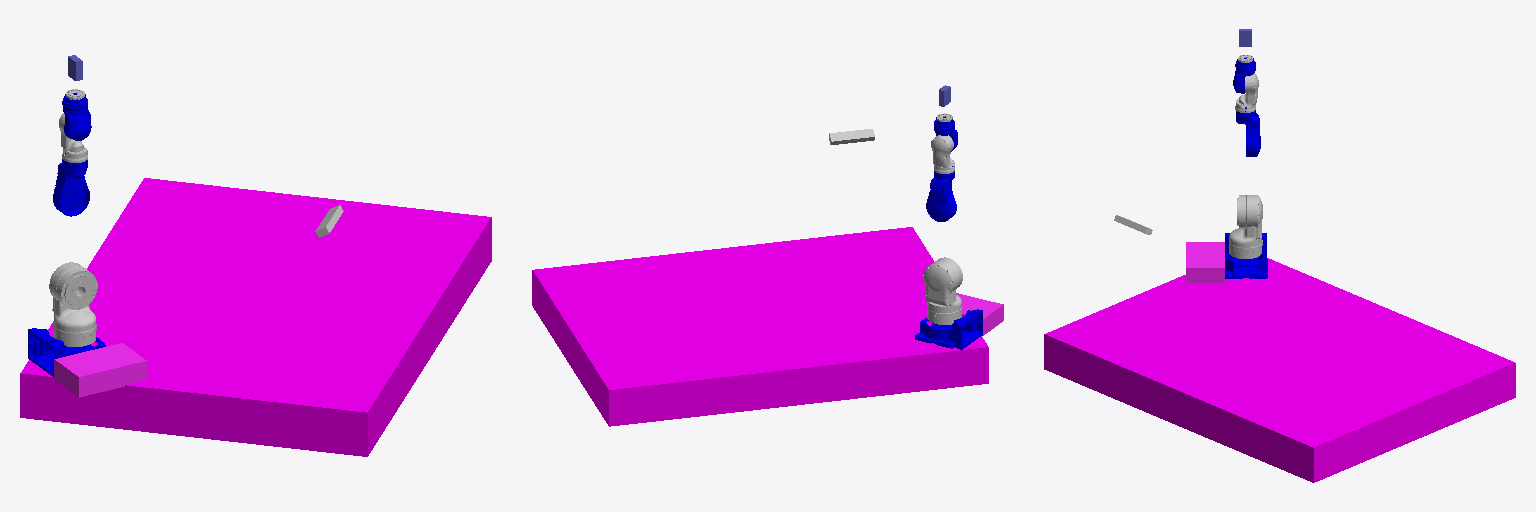
The robot description file, URDF, robot "freetail":
<?xml version="1.0" ?>
<!-- =================================================================================== -->
<!-- |    This document was autogenerated by xacro from urdf/freetail_vacuum_gripper_conf.xacro | -->
<!-- |    EDITING THIS FILE BY HAND IS NOT RECOMMENDED                                 | -->
<!-- =================================================================================== -->
<robot name="freetail" xmlns:xacro="http://ros.org/wiki/xacro">
  <!-- instantiating arm and gripper -->
  <link name="base_link">
    <visual>
      <geometry>
        <mesh filename="package://motoman_config/meshes/sia20d/visual/MOTOMAN_BASE.stl"/>
      </geometry>
      <material name="blue">
        <color rgba="0 0 1 1"/>
      </material>
    </visual>
    <collision>
      <geometry>
        <mesh filename="package://motoman_config/meshes/sia20d/collision/MOTOMAN_BASE.stl"/>
      </geometry>
      <material name="yellow">
        <color rgba="0 1 1 1"/>
      </material>
    </collision>
  </link>
  <link name="link_s">
    <visual>
      <origin rpy="0 0 3.1416" xyz="0 0 0"/>
      <geometry>
        <mesh filename="package://motoman_config/meshes/sia20d/visual/MOTOMAN_AXIS_S.stl"/>
      </geometry>
      <material name="silver">
        <color rgba="0.8 0.8 0.8 1"/>
      </material>
    </visual>
    <collision>
      <origin rpy="0 0 3.1416" xyz="0 0 0"/>
      <geometry>
        <mesh filename="package://motoman_config/meshes/sia20d/collision/MOTOMAN_AXIS_S.stl"/>
      </geometry>
      <material name="yellow"/>
    </collision>
  </link>
  <link name="link_l">
    <visual>
      <origin rpy="1.57 3.1416 3.1416" xyz="0 0 0"/>
      <geometry>
        <mesh filename="package://motoman_config/meshes/sia20d/visual/MOTOMAN_AXIS_L.stl"/>
      </geometry>
      <material name="blue"/>
    </visual>
    <collision>
      <origin rpy="1.57 3.1416 3.1416" xyz="0 0 0"/>
      <geometry>
        <mesh filename="package://motoman_config/meshes/sia20d/collision/MOTOMAN_AXIS_L.stl"/>
      </geometry>
      <material name="yellow"/>
    </collision>
  </link>
  <link name="link_e">
    <visual>
      <origin rpy="0 0 0" xyz="0 0 0"/>
      <geometry>
        <mesh filename="package://motoman_config/meshes/sia20d/visual/MOTOMAN_AXIS_E.stl"/>
      </geometry>
      <material name="silver"/>
    </visual>
    <collision>
      <origin rpy="0 0 0" xyz="0 0 0"/>
      <geometry>
        <mesh filename="package://motoman_config/meshes/sia20d/collision/MOTOMAN_AXIS_E.stl"/>
      </geometry>
      <material name="yellow"/>
    </collision>
  </link>
  <link name="link_u">
    <visual>
      <origin rpy="1.57 -3.1415 3.1416" xyz="0 0 0"/>
      <geometry>
        <mesh filename="package://motoman_config/meshes/sia20d/visual/MOTOMAN_AXIS_U.stl"/>
      </geometry>
      <material name="blue"/>
    </visual>
    <collision>
      <origin rpy="1.57 -3.1415 3.1416" xyz="0 0 0"/>
      <geometry>
        <mesh filename="package://motoman_config/meshes/sia20d/collision/MOTOMAN_AXIS_U.stl"/>
      </geometry>
      <material name="yellow"/>
    </collision>
  </link>
  <link name="link_r">
    <visual>
      <origin rpy="0 0 0" xyz="0 0 0"/>
      <geometry>
        <mesh filename="package://motoman_config/meshes/sia20d/visual/MOTOMAN_AXIS_R.stl"/>
      </geometry>
      <material name="silver"/>
    </visual>
    <collision>
      <origin rpy="0 0 0" xyz="0 0 0"/>
      <geometry>
        <mesh filename="package://motoman_config/meshes/sia20d/collision/MOTOMAN_AXIS_R.stl"/>
      </geometry>
      <material name="yellow"/>
    </collision>
  </link>
  <link name="link_b">
    <visual>
      <origin rpy="-1.57 0 0" xyz="0 0 0"/>
      <geometry>
        <mesh filename="package://motoman_config/meshes/sia20d/visual/MOTOMAN_AXIS_B.stl"/>
      </geometry>
      <material name="blue"/>
    </visual>
    <collision>
      <origin rpy="-1.57 0 0" xyz="0 0 0"/>
      <geometry>
        <mesh filename="package://motoman_config/meshes/sia20d/collision/MOTOMAN_AXIS_B.stl"/>
      </geometry>
      <material name="yellow"/>
    </collision>
  </link>
  <link name="link_t">
    <visual>
      <geometry>
        <mesh filename="package://motoman_config/meshes/sia20d/visual/MOTOMAN_AXIS_T.stl"/>
      </geometry>
      <material name="silver"/>
    </visual>
    <collision>
      <geometry>
        <mesh filename="package://motoman_config/meshes/sia20d/collision/MOTOMAN_AXIS_T.stl"/>
      </geometry>
      <material name="yellow"/>
    </collision>
  </link>
  <joint name="joint_s" type="revolute">
    <parent link="base_link"/>
    <child link="link_s"/>
    <origin rpy="0 0 0" xyz="0 0 0.41"/>
    <axis xyz="0 0 1"/>
    <limit effort="100" lower="-3.1416" upper="3.1416" velocity="2.26"/>
  </joint>
  <joint name="joint_l" type="revolute">
    <parent link="link_s"/>
    <child link="link_l"/>
    <origin rpy="0 0 0" xyz="0 0 0"/>
    <axis xyz="0 1 0"/>
    <limit effort="100" lower="-1.91" upper="1.91" velocity="2.26"/>
  </joint>
  <joint name="joint_e" type="revolute">
    <parent link="link_l"/>
    <child link="link_e"/>
    <origin rpy="0 0 0" xyz="0 0 0.49"/>
    <axis xyz="0 0 1"/>
    <limit effort="100" lower="-2.96" upper="2.96" velocity="2.96"/>
  </joint>
  <joint name="joint_u" type="revolute">
    <parent link="link_e"/>
    <child link="link_u"/>
    <origin rpy="0 0 0" xyz="0 0 0"/>
    <axis xyz="0 -1 0"/>
    <limit effort="100" lower="-2.26" upper="2.26" velocity="2.96"/>
  </joint>
  <joint name="joint_r" type="revolute">
    <parent link="link_u"/>
    <child link="link_r"/>
    <origin rpy="0 0 0" xyz="0 0 0.420"/>
    <axis xyz="0 0 -1"/>
    <limit effort="100" lower="-3.1416" upper="3.1416" velocity="3.48"/>
  </joint>
  <joint name="joint_b" type="revolute">
    <parent link="link_r"/>
    <child link="link_b"/>
    <origin rpy="0 0 0" xyz="0 0 0"/>
    <axis xyz="0 -1 0"/>
    <limit effort="100" lower="-1.91" upper="1.91" velocity="3.48"/>
  </joint>
  <joint name="joint_t" type="revolute">
    <parent link="link_b"/>
    <child link="link_t"/>
    <origin rpy="0 0 0" xyz="0 0 0.18"/>
    <axis xyz="0 0 -1"/>
    <limit effort="100" lower="-3.1416" upper="3.1416" velocity="6.97"/>
  </joint>
  <link name="palm">
    <visual>
      <origin rpy="0 0 0" xyz="0 0.019 -0.0543"/>
      <geometry>
        <box size="0.040 0.080 0.1086"/>
      </geometry>
      <material name="another_blue1">
        <color rgba="0.40 0.40 0.80 1"/>
      </material>
    </visual>
    <collision>
      <origin rpy="0 0 0" xyz="0 0.019 -0.0543"/>
      <geometry>
        <box size="0.040 0.080 0.1086"/>
      </geometry>
      <material name="another_blue2">
        <color rgba="0.38 0.54 0.83 1"/>
      </material>
    </collision>
  </link>
  <!-- adding coupling link -->
  <link name="coupler">
    <visual>
      <geometry>
        <mesh filename="package://longhorn/meshes/coupler/visual/COUPLER.stl"/>
      </geometry>
      <material name="orange">
        <color rgba="1 0.5 0 1"/>
      </material>
    </visual>
    <collision>
      <geometry>
        <mesh filename="package://longhorn/meshes/coupler/collision/COUPLER.stl"/>
      </geometry>
      <material name="yellow">
        <color rgba="0 1 1 1"/>
      </material>
    </collision>
  </link>
  <!-- adding joints -->
  <joint name="tool-coupler" type="fixed">
    <parent link="link_t"/>
    <child link="coupler"/>
    <origin rpy="1.570 0 0" xyz="0 0 0"/>
  </joint>
  <joint name="coupler-hand" type="fixed">
    <parent link="coupler"/>
    <child link="palm"/>
    <origin rpy="-1.570 0 0" xyz="0 0.196 0.019"/>
  </joint>
  <!-- environment list -->
  <link name="table">
    <visual>
      <geometry>
        <box size="1.83 2.44 0.25"/>
      </geometry>
      <material name="">
        <color rgba="1 0 1 1"/>
      </material>
    </visual>
    <collision>
      <geometry>
        <box size="1.83 2.44 0.25"/>
      </geometry>
      <material name="">
        <color rgba="1 0 1 1"/>
      </material>
    </collision>
  </link>
  <link name="table_keepout_1">
    <collision>
      <geometry>
        <box size="2.08 0.25 2"/>
      </geometry>
      <material name="">
        <color rgba="1 0.2 1 0.1"/>
      </material>
    </collision>
  </link>
  <link name="table_keepout_2">
    <collision>
      <geometry>
        <box size="0.25 2.69 2"/>
      </geometry>
      <material name="">
        <color rgba="1 0.2 1 0.1"/>
      </material>
    </collision>
  </link>
  <link name="abb_keepout">
    <collision>
      <geometry>
        <box size="0.915 1.524 2"/>
      </geometry>
      <material name="">
        <color rgba="1 0.2 1 0.1"/>
      </material>
    </collision>
  </link>
  <link name="power_supply">
    <visual>
      <geometry>
        <box size="0.400 0.250 0.115"/>
      </geometry>
      <material name="">
        <color rgba="1 0.2 1 0.1"/>
      </material>
    </visual>
    <collision>
      <geometry>
        <box size="0.400 0.250 0.115"/>
      </geometry>
      <material name="">
        <color rgba="1 0.2 1 0.1"/>
      </material>
    </collision>
  </link>
  <link name="kinect_keepout">
    <collision>
      <geometry>
        <box size="0.25 2.69 2"/>
      </geometry>
      <material name="">
        <color rgba="1 0.2 1 0.1"/>
      </material>
    </collision>
  </link>
  <link name="kinect">
    <collision>
      <geometry>
        <box size="0.36 0.28 0.22"/>
      </geometry>
      <material name="">
        <color rgba="1 0.8 1 0.1"/>
      </material>
    </collision>
  </link>
  <joint name="base-table" type="fixed">
    <parent link="base_link"/>
    <child link="table"/>
    <origin rpy="0 0 -0.785" xyz="1.19 0.22 -0.125"/>
  </joint>
  <joint name="base-kinect" type="fixed">
    <parent link="base_link"/>
    <child link="kinect"/>
    <origin rpy="0 0.5235 2.356" xyz="1.08 -0.72 0.82"/>
  </joint>
  <joint name="table-keepout_1" type="fixed">
    <parent link="table"/>
    <child link="table_keepout_1"/>
    <origin rpy="0 0 0" xyz="0 -1.34 1"/>
  </joint>
  <joint name="table-keepout_2" type="fixed">
    <parent link="table"/>
    <child link="table_keepout_2"/>
    <origin rpy="0 0 0" xyz="-1.025 0 1"/>
  </joint>
  <joint name="abb-keepout" type="fixed">
    <parent link="table"/>
    <child link="abb_keepout"/>
    <origin rpy="0 0 0" xyz="0.475 0.458 1.125"/>
  </joint>
  <joint name="base-power_supply" type="fixed">
    <parent link="base_link"/>
    <child link="power_supply"/>
    <origin rpy="0 0 0" xyz="0 -0.260 0.050"/>
  </joint>
  <joint name="table-kinect" type="fixed">
    <parent link="table"/>
    <child link="kinect_keepout"/>
    <origin rpy="0 0 0" xyz=".5 0 1"/>
  </joint>
  <!-- end environment list -->
  <!-- kinect -->
  <joint name="kinect_frame_joint" type="fixed">
    <parent link="kinect"/>
    <child link="kinect_frame"/>
    <origin rpy="0 0 0" xyz="0 0 0"/>
  </joint>
  <link name="kinect_frame">
    <visual>
      <origin rpy="0 0 0" xyz="0 0 0"/>
      <geometry>
        <box size="0.064 0.28 0.04"/>
      </geometry>
      <material name="silver"/>
    </visual>
    <collision>
      <origin rpy="0 0 0" xyz="0 0 0"/>
      <geometry>
        <box size="0.064 0.28 0.04"/>
      </geometry>
    </collision>
  </link>
  <joint name="kinect_ir_joint" type="fixed">
    <parent link="kinect_frame"/>
    <child link="kinect_ir_link"/>
    <origin rpy="0 0 0" xyz="0 0 0"/>
  </joint>
  <link name="kinect_ir_link">
    <visual>
      <origin rpy="0 0 0" xyz="0 0 0"/>
      <geometry>
        <sphere radius="0.0005"/>
      </geometry>
    </visual>
  </link>
  <joint name="kinect_ir_optical_frame_joint" type="fixed">
    <parent link="kinect_ir_link"/>
    <child link="kinect_ir_optical_frame"/>
    <origin rpy="-1.57 0 -1.57" xyz="0 0 0"/>
  </joint>
  <link name="kinect_ir_optical_frame"/>
  <joint name="kinect_rgb_joint" type="fixed">
    <parent link="kinect_ir_link"/>
    <child link="kinect_rgb_link"/>
    <origin rpy="0 0 0" xyz="0 -0.03 0"/>
  </joint>
  <link name="kinect_rgb_link">
    <visual>
      <origin rpy="0 0 0" xyz="0 0 0"/>
      <geometry>
        <sphere radius="0.0005"/>
      </geometry>
    </visual>
  </link>
  <joint name="kinect_rgb_optical_frame_joint" type="fixed">
    <parent link="kinect_rgb_link"/>
    <child link="kinect_rgb_optical_frame"/>
    <origin rpy="-1.57 0 -1.57" xyz="0 0 0"/>
  </joint>
  <link name="kinect_rgb_optical_frame"/>
  <!-- end kinect -->
</robot>

--- Facts derived from the render (not from the file) ---
3 views of the same robot in one strip: view 1: azimuth 30°, elevation 25°; view 2: azimuth 150°, elevation 25°; view 3: azimuth 270°, elevation 25° (orthographic).
Robot: freetail — 22 links, 21 joints (7 revolute, 14 fixed); root link base_link; default pose: every joint at zero.
Visible links, largest first — view 1: table, power_supply, link_s, link_u, base_link, link_b, link_r; view 2: table, link_s, base_link, link_u, power_supply, link_r, kinect_frame; view 3: table, link_s, power_supply, base_link, link_u, link_r.
Link boxes in pixels (x1,y1,x2,y2): table: (20,178,491,456); power_supply: (54,343,146,397); link_s: (49,262,97,346); link_u: (53,153,89,216); base_link: (28,328,105,376); link_b: (62,93,91,140); link_r: (59,113,87,162); table: (532,227,988,426); link_s: (923,257,962,324); base_link: (915,309,982,349); link_u: (926,166,956,221); power_supply: (928,293,1003,335); link_r: (931,135,954,173); kinect_frame: (829,129,874,144); table: (1044,258,1515,482); link_s: (1229,195,1262,258); power_supply: (1186,242,1224,282); base_link: (1225,233,1267,278); link_u: (1236,107,1260,156); link_r: (1235,73,1258,112).
Size in the robot's own frame: 3.02 by 3.02 by 1.95 metres.
Meshes: 9 distinct files referenced, 6 mesh visuals loaded (6 binary STL); not drawn: 3 (reference not matched to a file when rendering).